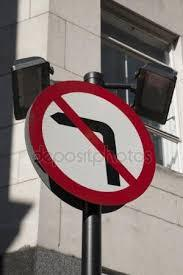no_left_turn: (27, 80, 155, 204)
